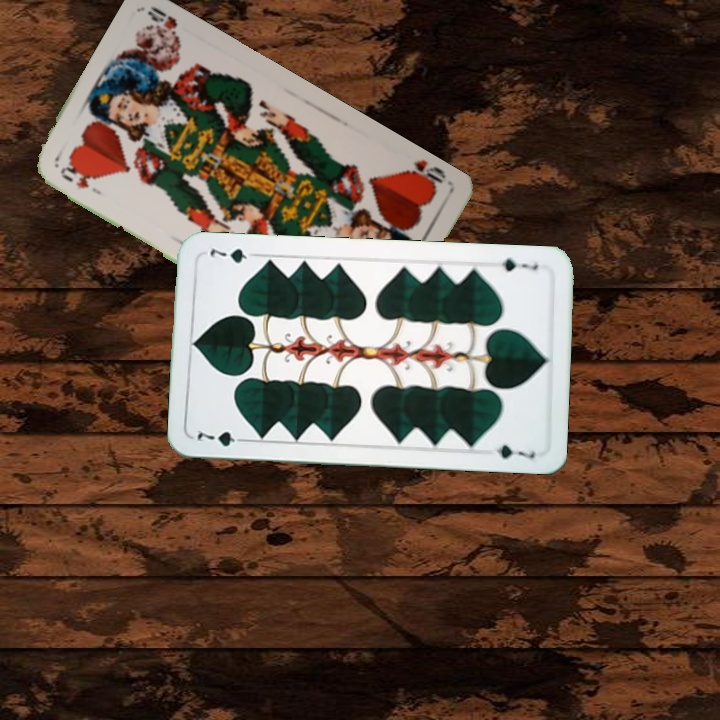G7: (193, 425, 251, 449), (497, 254, 540, 274)
HO: (394, 156, 448, 195), (56, 163, 104, 198)
